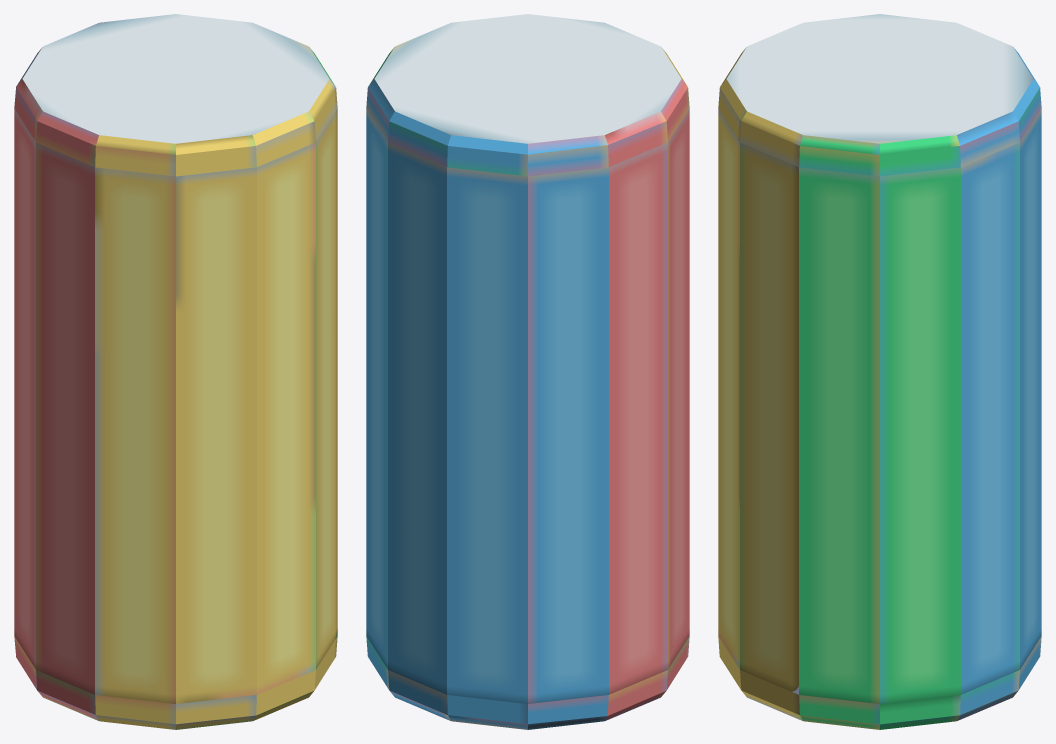
File: cylinder_buildingblock_village.obj
3 renders of one model, left to right at view 1: azimuth 30°, elevation 25°; view 2: azimuth 150°, elevation 25°; view 3: azimuth 270°, elevation 25°, orthographic.
Parts seen in each view (by area): view 1: cylinder; view 2: cylinder; view 3: cylinder.
Boxes of the visible parts, x1,y1,x2,y2 form: cylinder: (14, 14, 337, 729); cylinder: (366, 14, 689, 729); cylinder: (718, 14, 1041, 729).
Bounding box in the file's own units: 1 × 2 × 1.
